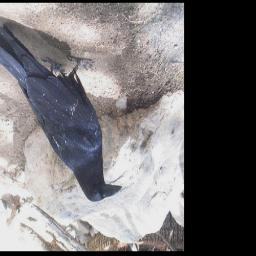Crow: (0, 17, 124, 204)
